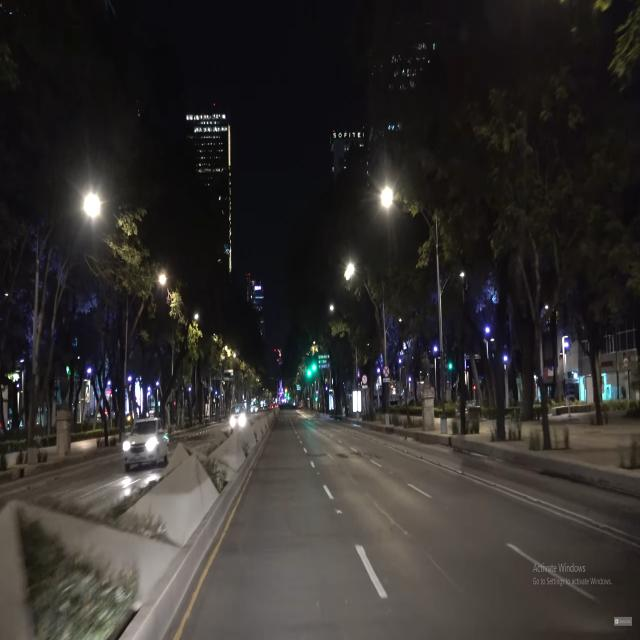headlights: (118, 430, 163, 464), (226, 410, 251, 430)
